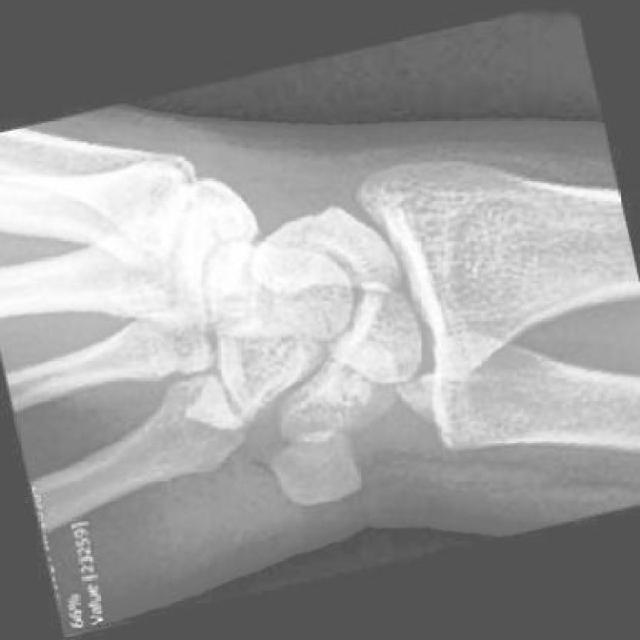Fracture: (154, 160, 259, 266)
